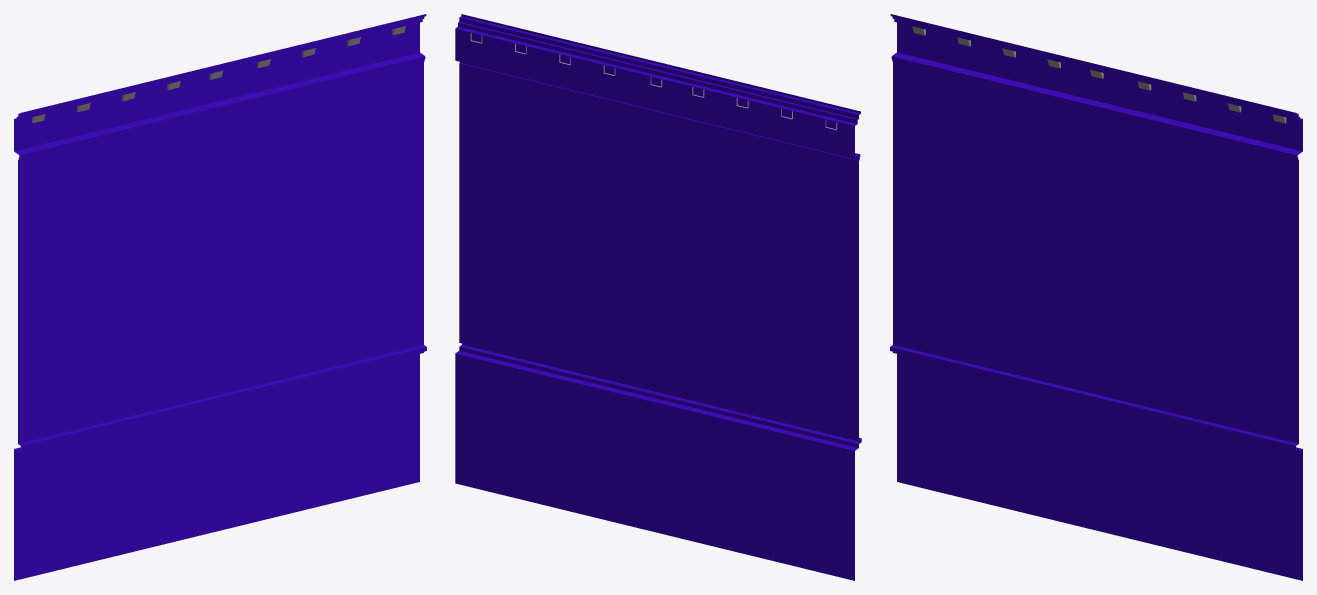
Rendered from Prop_WallExtNoWindows9x10_01.fbx.
The picture shows the model from 3 angles, left to right: view 1: azimuth 30°, elevation 25°; view 2: azimuth 150°, elevation 25°; view 3: azimuth 330°, elevation 25°; orthographic projection.
Parts seen in each view (by area): view 1: polySurface123; view 2: polySurface123; view 3: polySurface123.
Boxes of the visible parts, <box> form: polySurface123: <box>14,14,426,580</box>; polySurface123: <box>455,14,861,580</box>; polySurface123: <box>890,14,1302,580</box>.
Bounding box in the file's own units: 901 × 1002 × 29.92.
